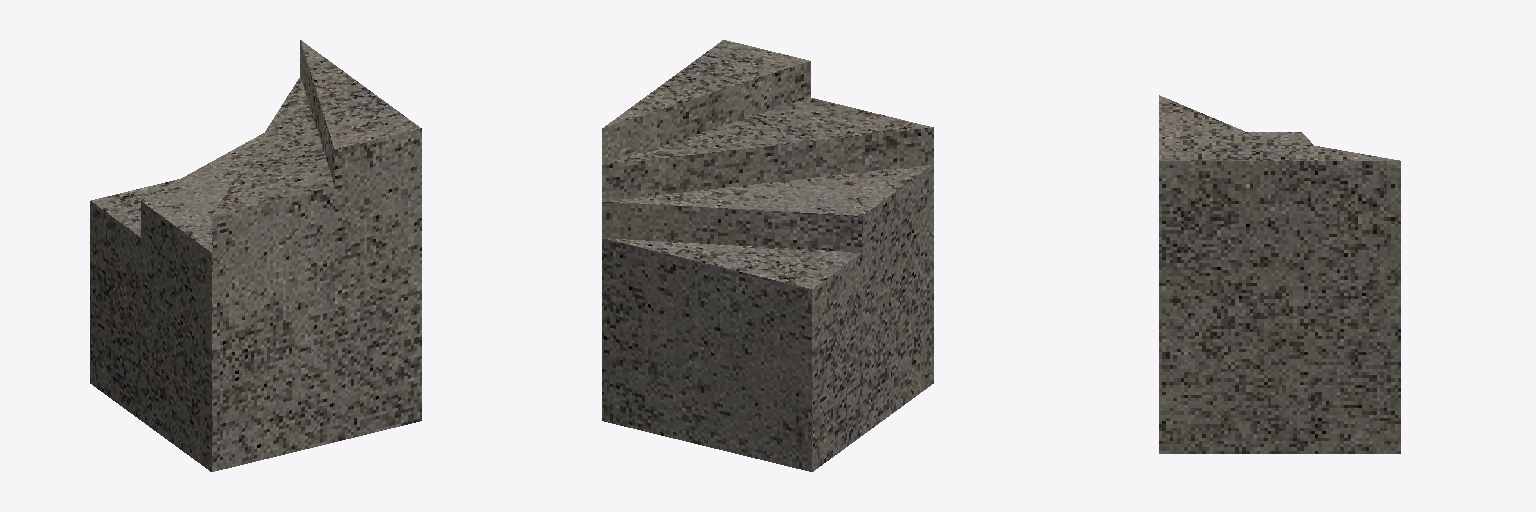
3 views of the same model, side by side, from view 1: azimuth 30°, elevation 25°; view 2: azimuth 150°, elevation 25°; view 3: azimuth 270°, elevation 25° (orthographic).
Size of the model in its own units: 1 by 1.33 by 1.
Materials: 1 (1 with a texture image).